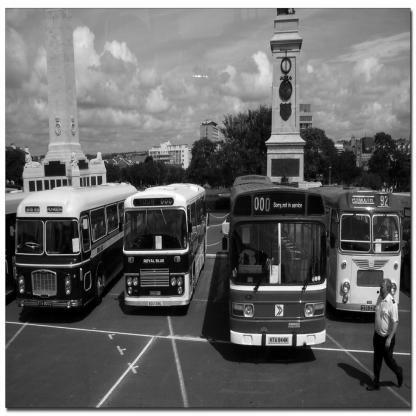bus: (227, 167, 334, 364), (9, 173, 122, 327), (110, 176, 212, 325), (331, 181, 407, 324)
